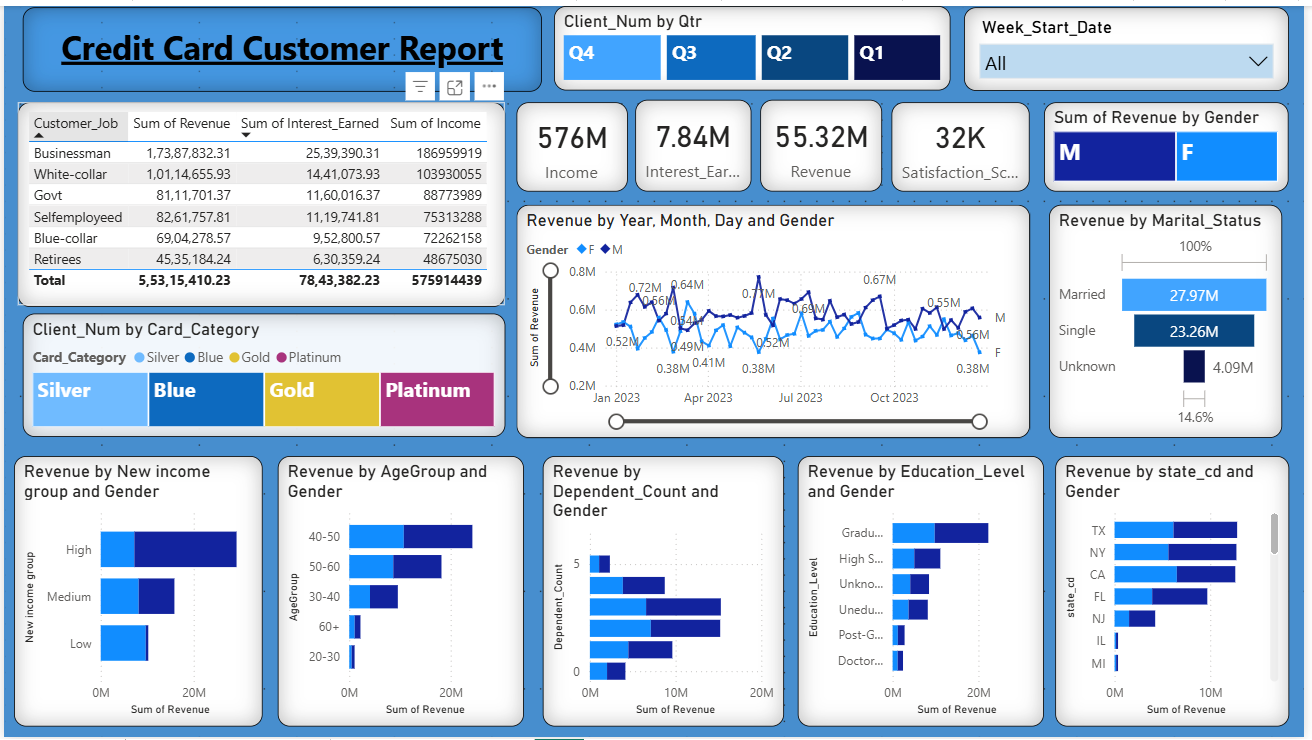

The dashboard page shown, as its layout file describes it:
{"tool":"powerbi","page":{"name":"Credit Card Customers","canvas":[1280,720],"ordinal":1},"visuals":[{"type":"textbox","box":[18.7,1.2,511.3,83.3],"z":0},{"type":"treemap","title":"Client_Num by Qtr","fields":{"Group":["Credit_Card.Qtr"],"Values":["Avg(Credit_Card.Client_Num)"]},"box":[541.1,0,390.6,83.3],"z":1000},{"type":"slicer","fields":{"Values":["Credit_Card.Week_Start_Date"]},"box":[945.4,1.2,319.7,82.1],"z":2000},{"type":"treemap","fields":{"Group":["Customers_Card.Gender"],"Values":["Sum(Credit_Card.Revenue)"]},"box":[1024.5,94.5,240.5,88.3],"z":3000},{"type":"tableEx","fields":{"Values":["Customers_Card.Customer_Job","Sum(Credit_Card.Revenue)","Sum(Credit_Card.Interest_Earned)","Sum(Customers_Card.Income)"]},"box":[13.5,94.5,479.8,201.2],"z":4000},{"type":"barChart","title":"Revenue by New income group and Gender","fields":{"Category":["Customers_Card.New income group"],"Series":["Customers_Card.Gender"],"Y":["Sum(Credit_Card.Revenue)"]},"box":[10,442.8,245.1,266.2],"z":5000},{"type":"barChart","title":"Revenue by AgeGroup and Gender","fields":{"Category":["Customers_Card.AgeGroup"],"Series":["Customers_Card.Gender"],"Y":["Sum(Credit_Card.Revenue)"]},"box":[269.9,442.8,242.6,266.2],"z":6000},{"type":"barChart","title":"Revenue by Dependent_Count and Gender","fields":{"Category":["Customers_Card.Dependent_Count"],"Series":["Customers_Card.Gender"],"Y":["Sum(Credit_Card.Revenue)"]},"box":[529.9,442.8,237.6,266.2],"z":7000},{"type":"barChart","title":"Revenue by Education_Level and Gender","fields":{"Category":["Customers_Card.Education_Level"],"Series":["Customers_Card.Gender"],"Y":["Sum(Credit_Card.Revenue)"]},"box":[781.2,442.8,242.6,266.2],"z":8000},{"type":"barChart","title":"Revenue by state_cd and Gender","fields":{"Category":["Customers_Card.state_cd"],"Series":["Customers_Card.Gender"],"Y":["Sum(Credit_Card.Revenue)"]},"box":[1035,442.8,230.1,266.2],"z":9000},{"type":"lineChart","title":"Revenue by Year, Month, Day and Gender","fields":{"Category":["Credit_Card.Week_Start_Date.Variation.Date Hierarchy.Year","Credit_Card.Week_Start_Date.Variation.Date Hierarchy.Month","Credit_Card.Week_Start_Date.Variation.Date Hierarchy.Day"],"Series":["Customers_Card.Gender"],"Y":["Sum(Credit_Card.Revenue)"]},"box":[504.3,195.1,505.5,229.4],"z":10000},{"type":"treemap","title":"Client_Num by Card_Category","fields":{"Group":["Credit_Card.Card_Category"],"Values":["Avg(Credit_Card.Client_Num)"]},"box":[18.4,303.1,474.8,121.5],"z":11000},{"type":"card","fields":{"Values":["Sum(Credit_Card.Revenue)"]},"box":[744.8,92,120.2,90.8],"z":12000},{"type":"card","fields":{"Values":["Sum(Credit_Card.Interest_Earned)"]},"box":[622.1,92,114.1,90.8],"z":13000},{"type":"card","fields":{"Values":["Sum(Customers_Card.Income)"]},"box":[504.3,94.5,109.2,88.3],"z":14000},{"type":"card","fields":{"Values":["Sum(Customers_Card.Cust_Satisfaction_Score)"]},"box":[873.6,94.5,136.2,88.3],"z":15000},{"type":"funnel","title":"Revenue by Marital_Status","fields":{"Category":["Customers_Card.Marital_Status","Customers_Card.Gender"],"Y":["Sum(Credit_Card.Revenue)"]},"box":[1029.5,195.1,229.4,229.4],"z":16000}]}

Visuals, with their boxes in screenshot pixels (x1, y1, x2, y2), scaled from the page's 1280x720 canvas onto the 1312x740 screenshot:
textbox: [x1=19, y1=1, x2=543, y2=87]
"Client_Num by Qtr" treemap: [x1=555, y1=0, x2=955, y2=86]
slicer - Credit_Card.Week_Start_Date: [x1=969, y1=1, x2=1297, y2=86]
treemap - Customers_Card.Gender x Sum(Credit_Card.Revenue): [x1=1050, y1=97, x2=1297, y2=188]
tableEx - Customers_Card.Customer_Job x Sum(Credit_Card.Revenue): [x1=14, y1=97, x2=506, y2=304]
"Revenue by New income group and Gender" barChart: [x1=10, y1=455, x2=261, y2=729]
"Revenue by AgeGroup and Gender" barChart: [x1=277, y1=455, x2=525, y2=729]
"Revenue by Dependent_Count and Gender" barChart: [x1=543, y1=455, x2=787, y2=729]
"Revenue by Education_Level and Gender" barChart: [x1=801, y1=455, x2=1049, y2=729]
"Revenue by state_cd and Gender" barChart: [x1=1061, y1=455, x2=1297, y2=729]
"Revenue by Year, Month, Day and Gender" lineChart: [x1=517, y1=201, x2=1035, y2=436]
"Client_Num by Card_Category" treemap: [x1=19, y1=312, x2=506, y2=436]
card - Sum(Credit_Card.Revenue): [x1=763, y1=95, x2=887, y2=188]
card - Sum(Credit_Card.Interest_Earned): [x1=638, y1=95, x2=755, y2=188]
card - Sum(Customers_Card.Income): [x1=517, y1=97, x2=629, y2=188]
card - Sum(Customers_Card.Cust_Satisfaction_Score): [x1=895, y1=97, x2=1035, y2=188]
"Revenue by Marital_Status" funnel: [x1=1055, y1=201, x2=1290, y2=436]
